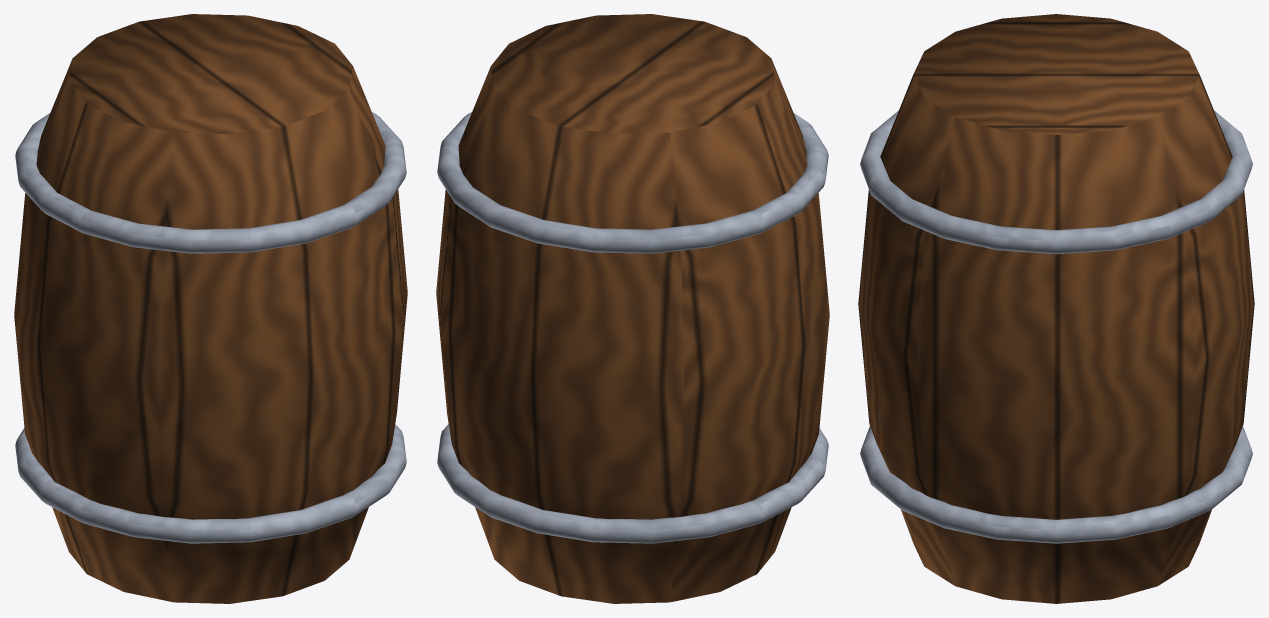
File: barrel.glb
3 renders of one model, left to right at view 1: azimuth 30°, elevation 25°; view 2: azimuth 150°, elevation 25°; view 3: azimuth 270°, elevation 25°, orthographic.
Visible parts, largest first — view 1: BarrelBody, Hoop.001, Hoop; view 2: BarrelBody, Hoop.001, Hoop; view 3: BarrelBody, Hoop.001, Hoop.
Boxes of the visible parts, box(x1,y1,x2,y2) form: BarrelBody: box(14, 14, 407, 603); Hoop.001: box(15, 112, 406, 253); Hoop: box(15, 424, 406, 543); BarrelBody: box(436, 14, 829, 603); Hoop.001: box(437, 112, 828, 253); Hoop: box(437, 424, 828, 543); BarrelBody: box(858, 14, 1254, 603); Hoop.001: box(860, 110, 1252, 254); Hoop: box(860, 426, 1252, 543).
Size of the model in its own units: 0.72 by 0.94 by 0.72.
Materials: 2 (2 with a texture image).
